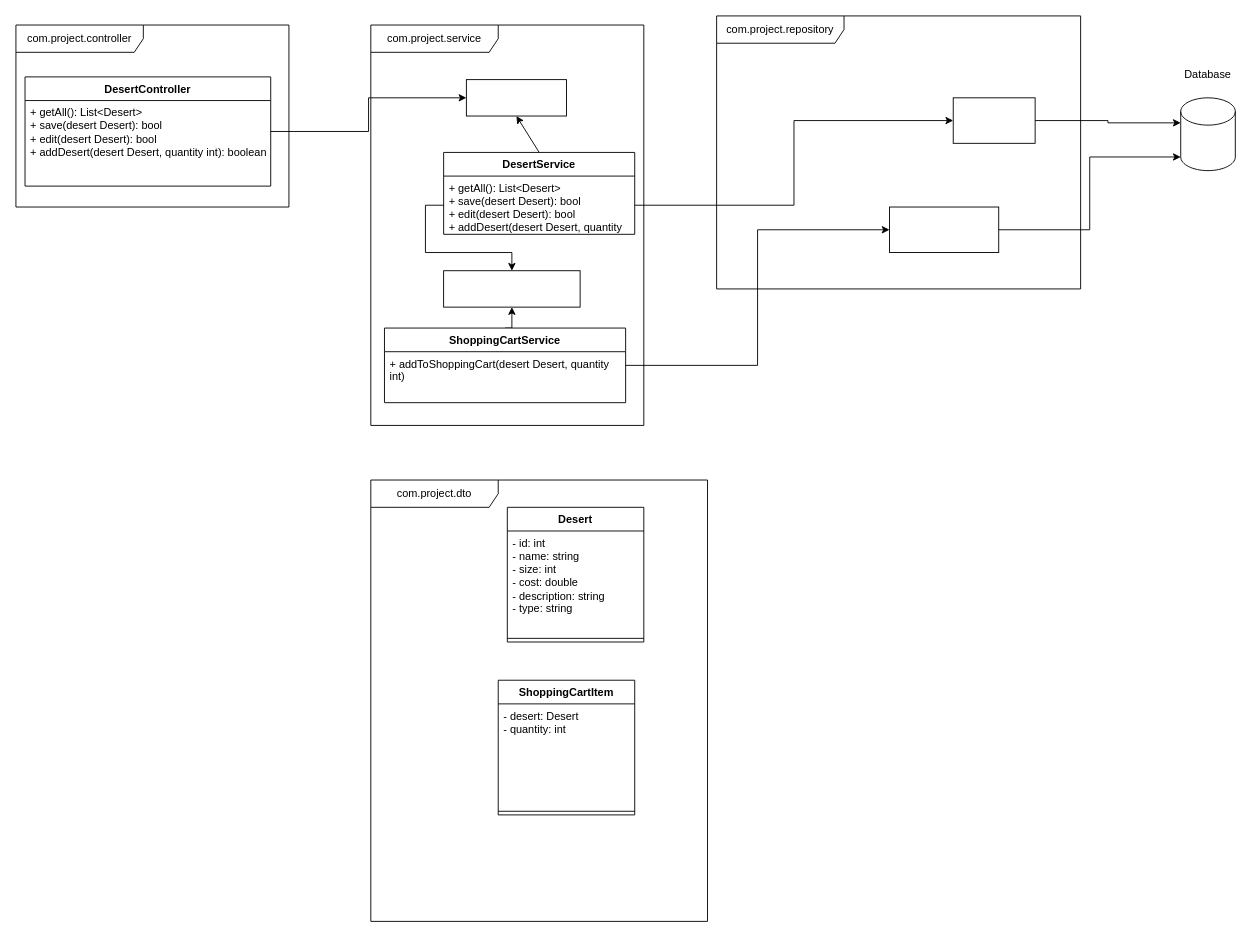
Image size: 1251x937. Some labels were removed from this diagram. The shapes that lost their labels are listed below. From the top down, each one's centre as x and y in pixels, then its label:
(x=515, y=97): «interface» IDesertService
(x=993, y=120): «interface» IDesertDAO
(x=944, y=229): «interface» IShoppingCartDAO
(x=511, y=288): «interface» IShoppingCartService
